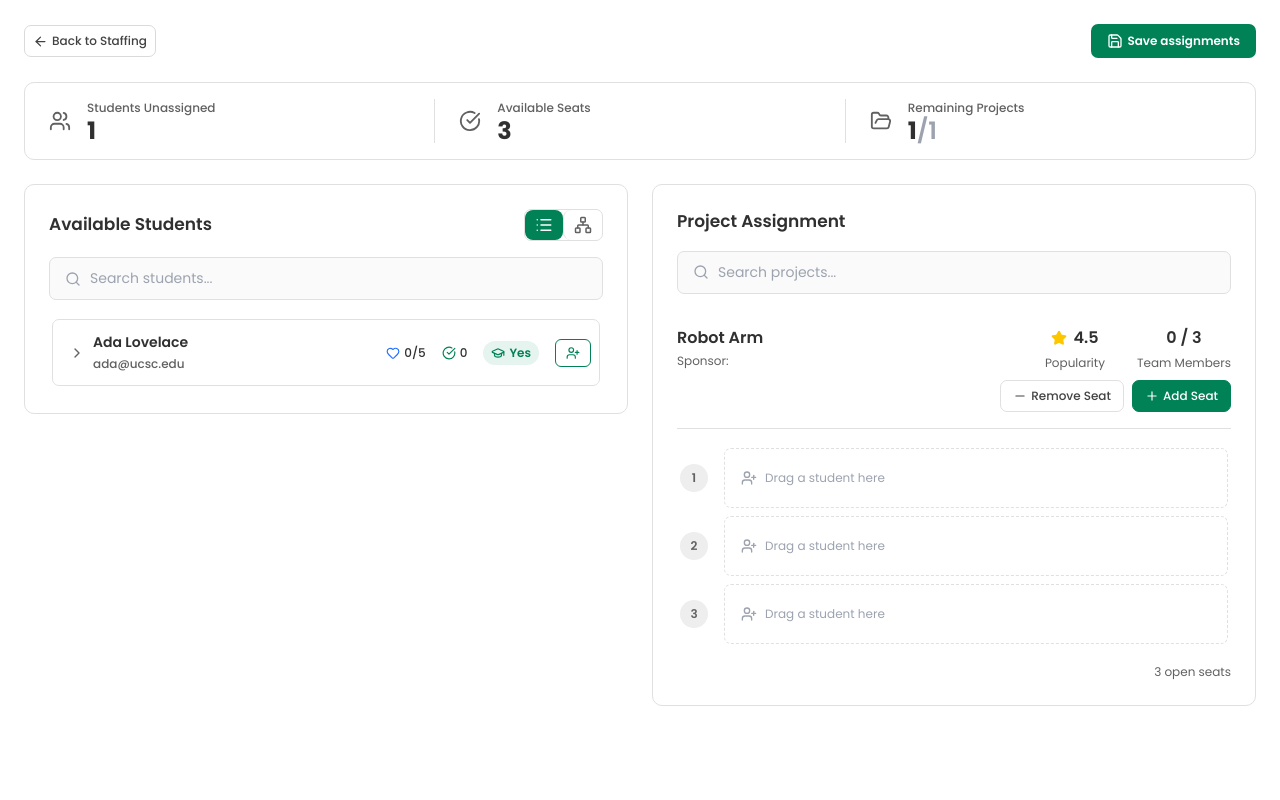
Assign › keeps the error from a failed "Remove a seat" after the reload
Click the button with aria-label "Remove a seat": {"x": 1062, "y": 396} x1=1000 y1=380 x2=1124 y2=412
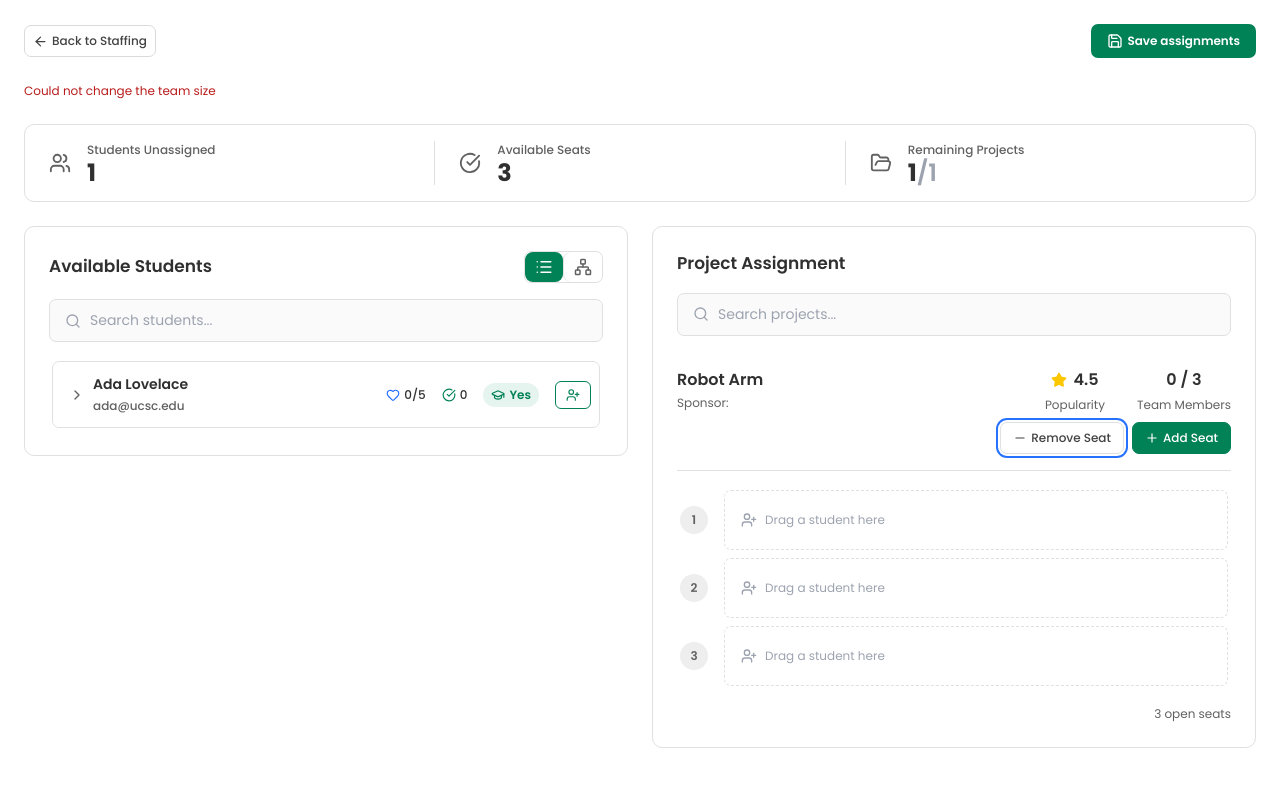
Expected: the text "0 / 3" is shown, x1=1166 y1=368 x2=1202 y2=392
Now the text "Could not change the team size" is shown, box x1=24 y1=82 x2=216 y2=99
